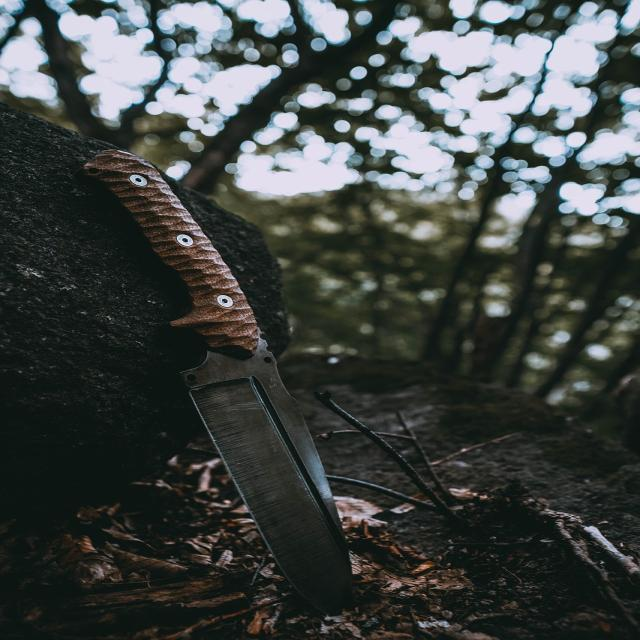Knife: (85, 150, 350, 613)
